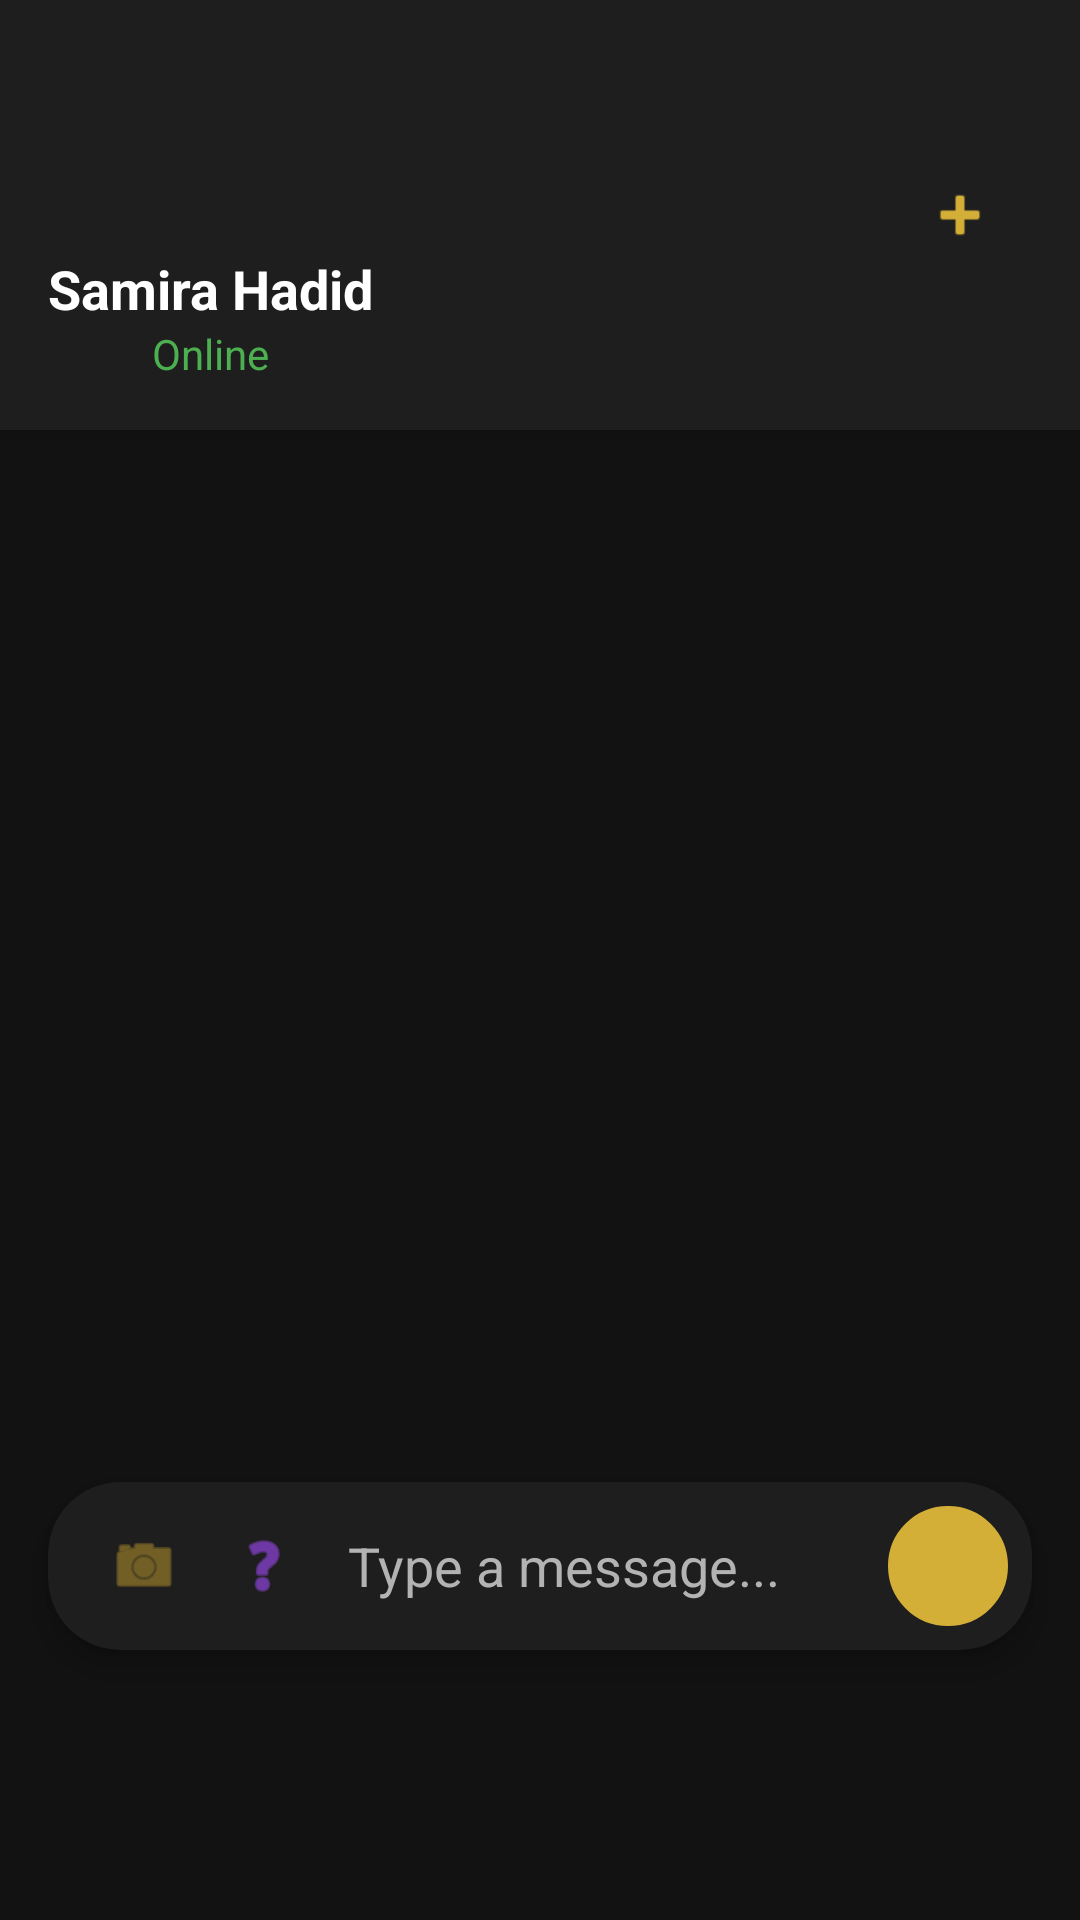

Named icons in this screenshot (1080x1920) and their bounding boxes, (x1, y1, x2, y2):
add: (940, 195, 980, 235)
camera: (116, 1543, 172, 1587)
help: (248, 1540, 280, 1592)
